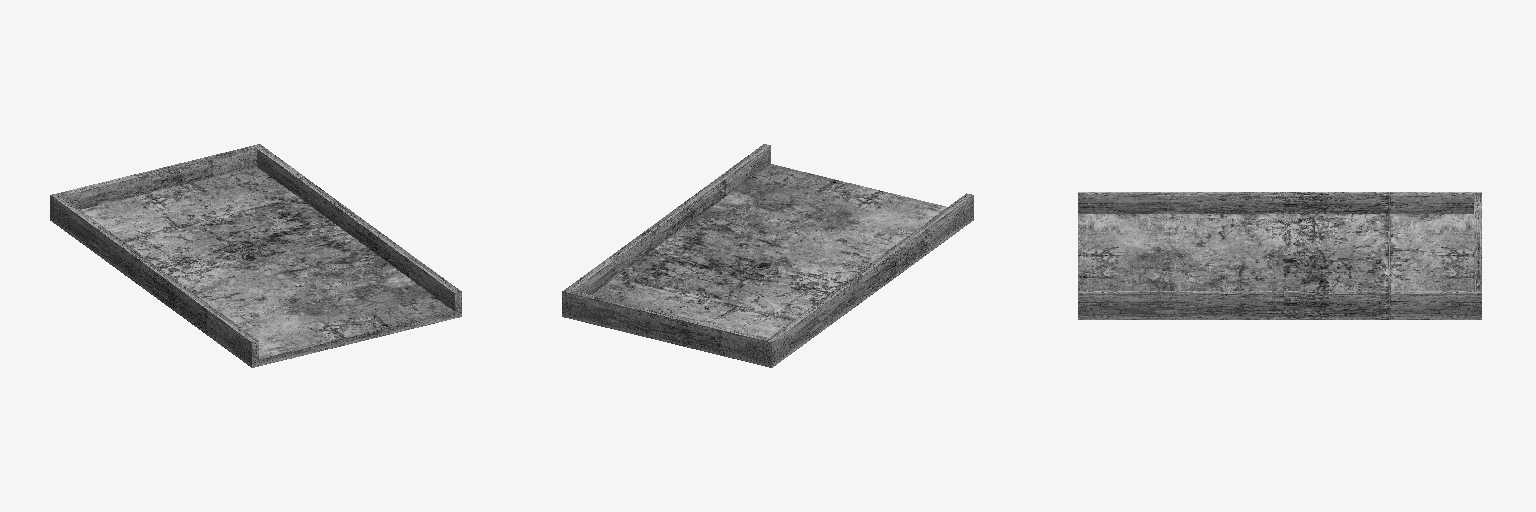
3 views of the same model, side by side, from view 1: azimuth 30°, elevation 25°; view 2: azimuth 150°, elevation 25°; view 3: azimuth 270°, elevation 25° (orthographic).
Parts seen in each view (by area): view 1: Box001, Box002, Box003, Box004; view 2: Box001, Box002, Box003, Box004; view 3: Box001, Box003, Box002, Box004.
Part boxes in pixels (bbox=[...]): Box001: bbox=[50, 167, 461, 367]; Box002: bbox=[50, 193, 258, 360]; Box003: bbox=[253, 144, 461, 310]; Box004: bbox=[58, 146, 256, 209]; Box001: bbox=[562, 164, 973, 367]; Box002: bbox=[765, 193, 973, 360]; Box003: bbox=[562, 144, 770, 310]; Box004: bbox=[569, 290, 767, 358]; Box001: bbox=[1078, 214, 1481, 319]; Box003: bbox=[1078, 291, 1481, 312]; Box002: bbox=[1078, 192, 1481, 213]; Box004: bbox=[1474, 196, 1481, 290].
Bounding box in the file's own units: 60 × 7 × 100.
1 materials, 1 textured.